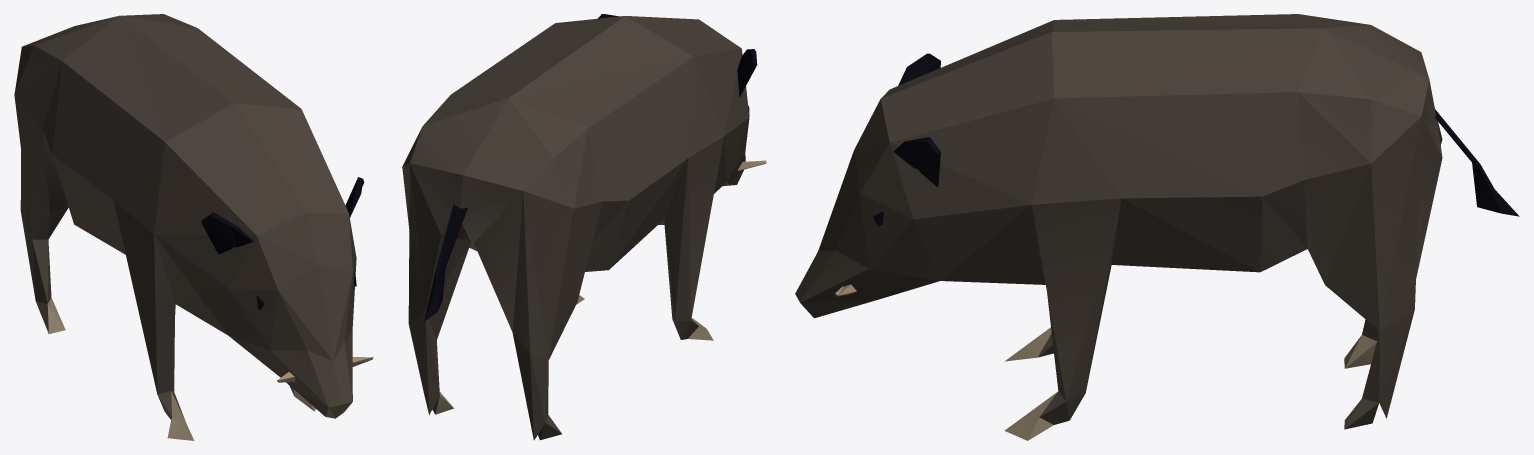
File: boar_lod1.glb
The picture shows the model from 3 angles, left to right: view 1: azimuth 30°, elevation 25°; view 2: azimuth 150°, elevation 25°; view 3: azimuth 270°, elevation 25°; orthographic projection. The views are drawn at different scales.
Visible parts, largest first — view 1: boar; view 2: boar; view 3: boar.
Part boxes in pixels (x1,y1,x2,y2): boar: [14, 14, 373, 440]; boar: [402, 14, 766, 440]; boar: [795, 14, 1519, 440].
Size of the model in its own units: 0.5893 by 0.9455 by 1.69.
